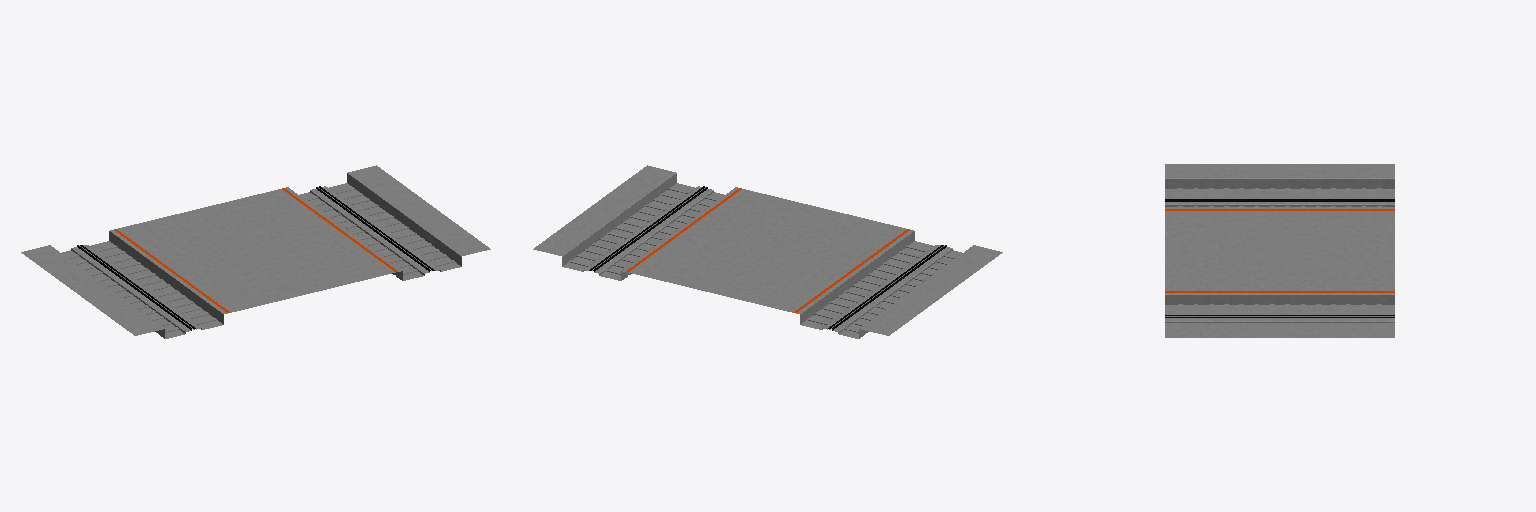
3 views of the same model, side by side, from view 1: azimuth 30°, elevation 25°; view 2: azimuth 150°, elevation 25°; view 3: azimuth 270°, elevation 25° (orthographic).
Parts seen in each view (by area): view 1: Plane_railway_concrete, Plane_railway_metal, Plane_railway_concrete_yellow; view 2: Plane_railway_concrete, Plane_railway_metal, Plane_railway_concrete_yellow; view 3: Plane_railway_concrete, Plane_railway_metal, Plane_railway_concrete_yellow.
Part boxes in pixels (left/top/right/bottom): Plane_railway_concrete: left=21, top=165, right=490, bottom=338; Plane_railway_metal: left=77, top=186, right=434, bottom=330; Plane_railway_concrete_yellow: left=114, top=188, right=397, bottom=312; Plane_railway_concrete: left=533, top=165, right=1002, bottom=338; Plane_railway_metal: left=589, top=186, right=946, bottom=330; Plane_railway_concrete_yellow: left=626, top=188, right=909, bottom=312; Plane_railway_concrete: left=1165, top=164, right=1394, bottom=337; Plane_railway_metal: left=1165, top=199, right=1394, bottom=317; Plane_railway_concrete_yellow: left=1165, top=209, right=1394, bottom=291.
Bounding box in the file's own units: 35.86 × 1 × 20.
3 materials, 1 textured.